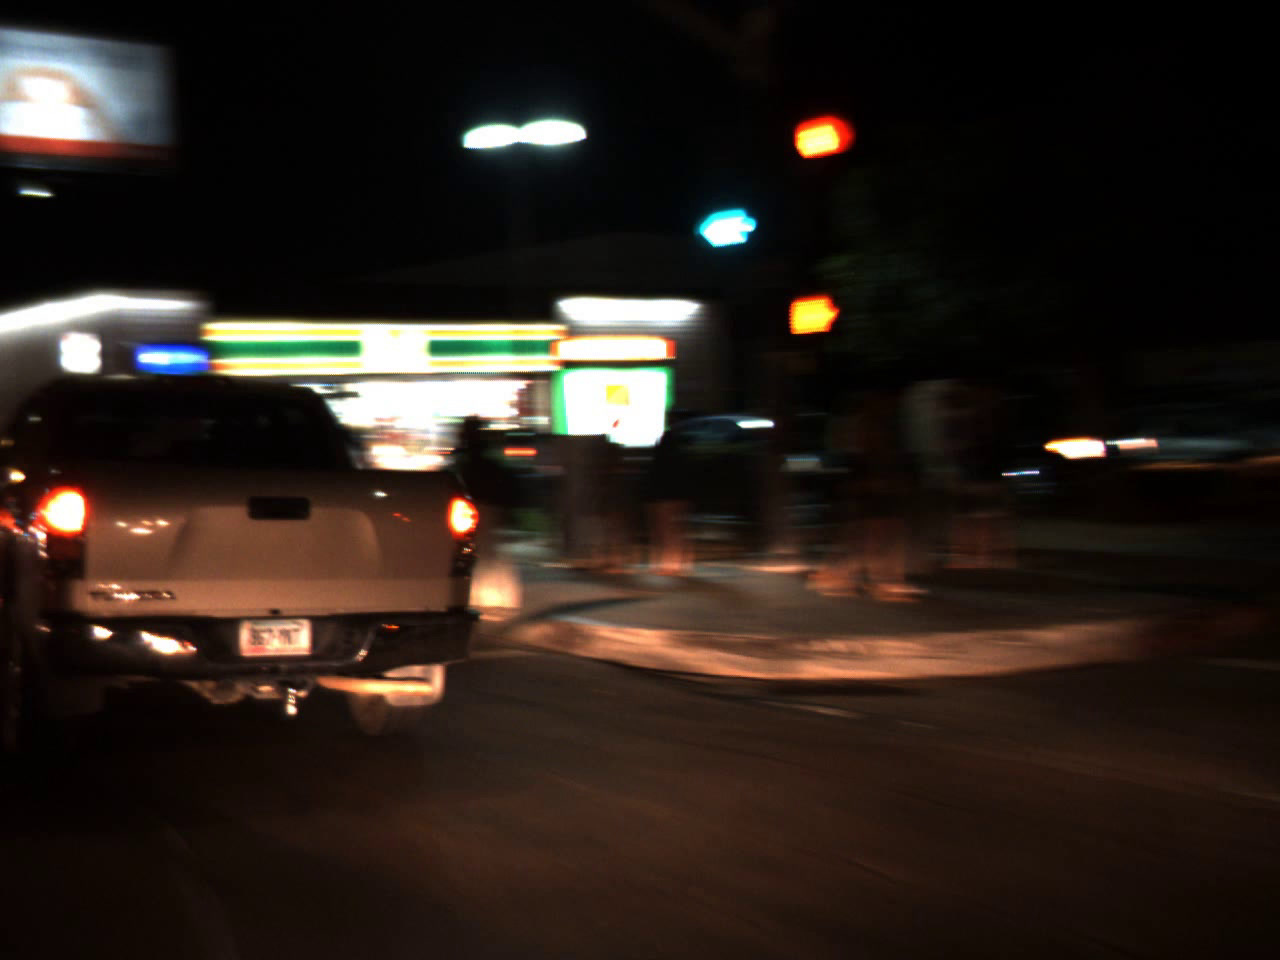go: (684, 184, 766, 253)
